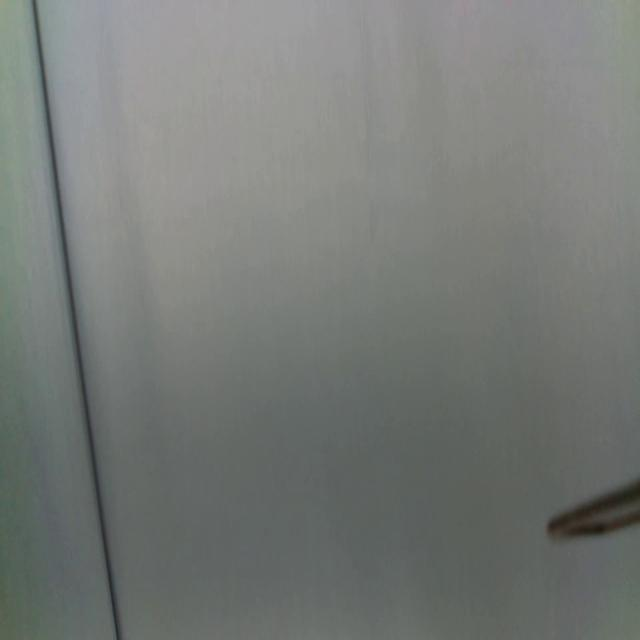crease: (31, 0, 121, 640)
